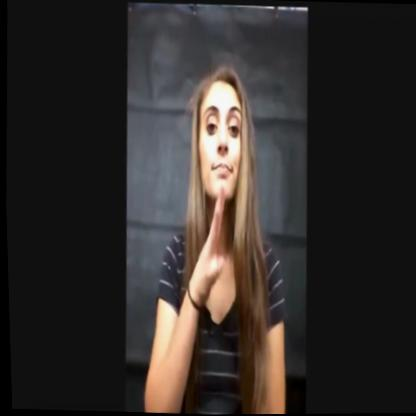Talk: (171, 63, 269, 304)
